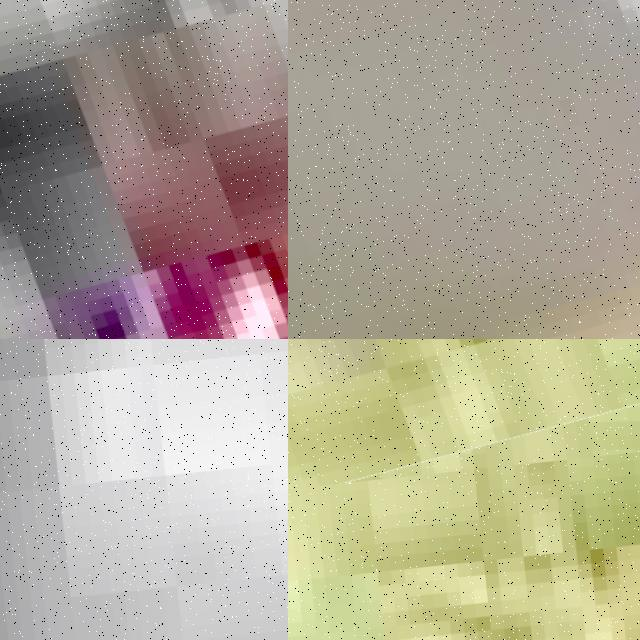0: (0, 0, 288, 339), (288, 339, 640, 515)
drone: (288, 0, 640, 339)
